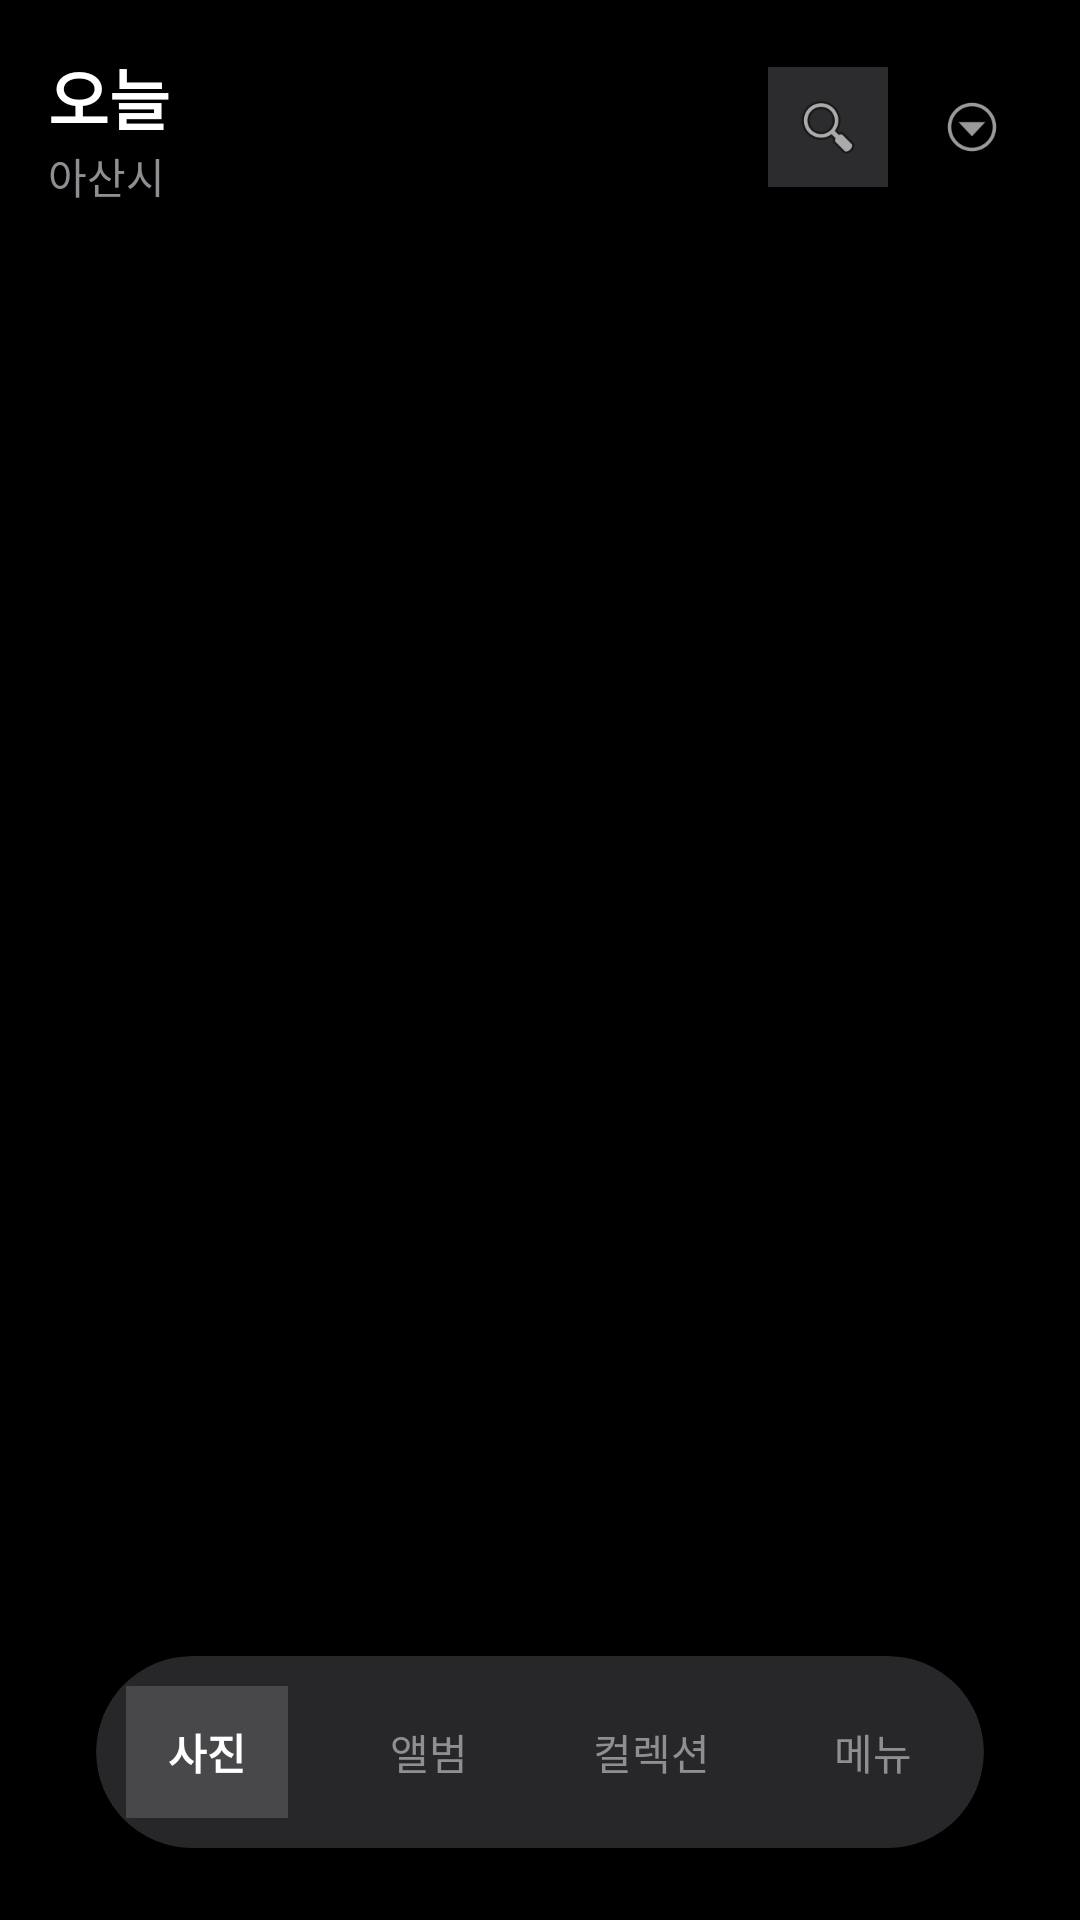

Locate icon controls on the screen. Image size 1080*1920, boxes as (x1, y1, x2, y2).
more: (947, 102, 997, 152)
search: (768, 67, 888, 187)
